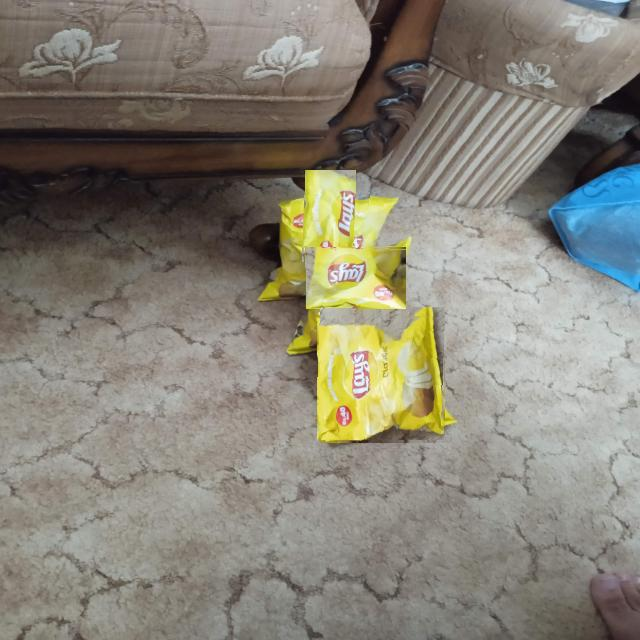Plastic: (317, 309, 448, 440), (304, 246, 406, 309), (291, 183, 370, 262)
